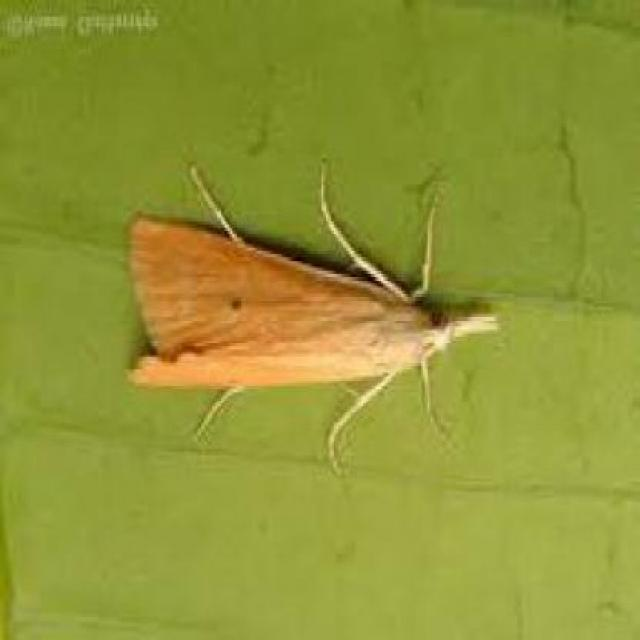stem-borer: (129, 160, 505, 483)
